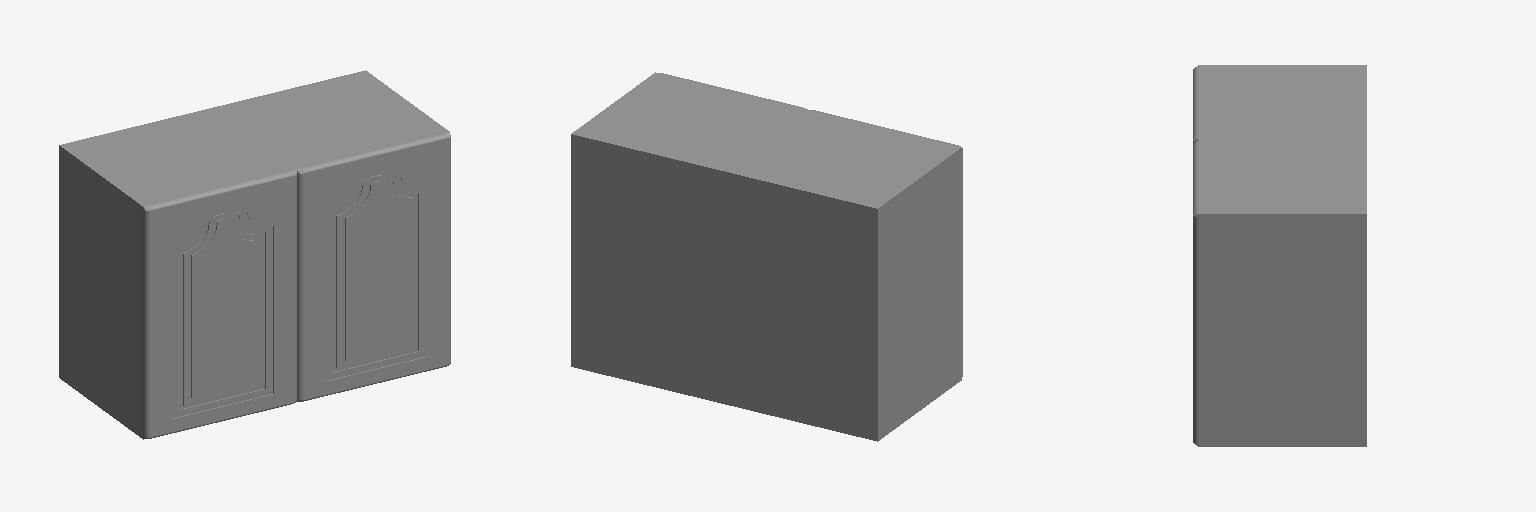
The model's file is double-base-unit-1200.obj.
3 views of the same model, side by side, from view 1: azimuth 30°, elevation 25°; view 2: azimuth 150°, elevation 25°; view 3: azimuth 270°, elevation 25° (orthographic).
Visible parts, largest first — view 1: Cube.004_Cube.000, Cube.003_Cube.008, Cube_Cube.002, Cube.002_Cube.004; view 2: Cube_Cube.002, Cube.002_Cube.004, Cube.001_Cube.003; view 3: Cube.001_Cube.003, Cube_Cube.002, Cube.004_Cube.000.
Part boxes in pixels (bbox=[...]): Cube.004_Cube.000: bbox=[297, 132, 450, 401]; Cube.003_Cube.008: bbox=[143, 169, 296, 439]; Cube_Cube.002: bbox=[63, 71, 445, 205]; Cube.002_Cube.004: bbox=[59, 144, 146, 438]; Cube_Cube.002: bbox=[575, 73, 957, 440]; Cube.002_Cube.004: bbox=[874, 146, 961, 441]; Cube.001_Cube.003: bbox=[571, 73, 658, 367]; Cube.001_Cube.003: bbox=[1199, 213, 1366, 446]; Cube_Cube.002: bbox=[1199, 67, 1366, 212]; Cube.004_Cube.000: bbox=[1193, 140, 1198, 446].
Bounding box in the file's own units: 240 × 174 × 118.